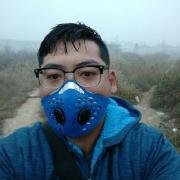OK: (37, 61, 112, 136)
